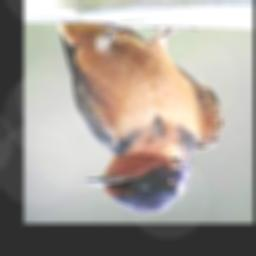Swallow: (57, 22, 224, 215)
